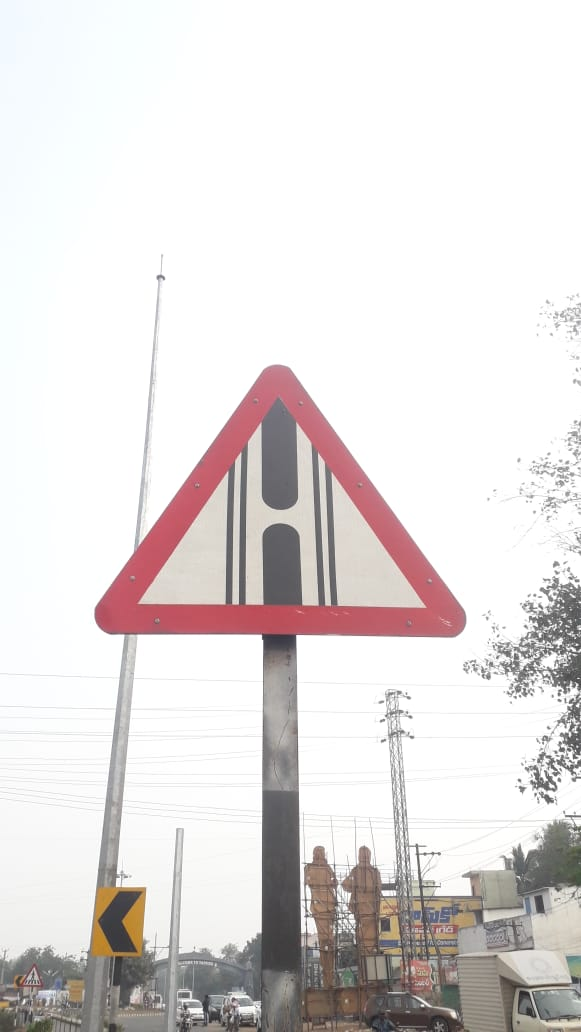highway go straight: (68, 351, 481, 670)
